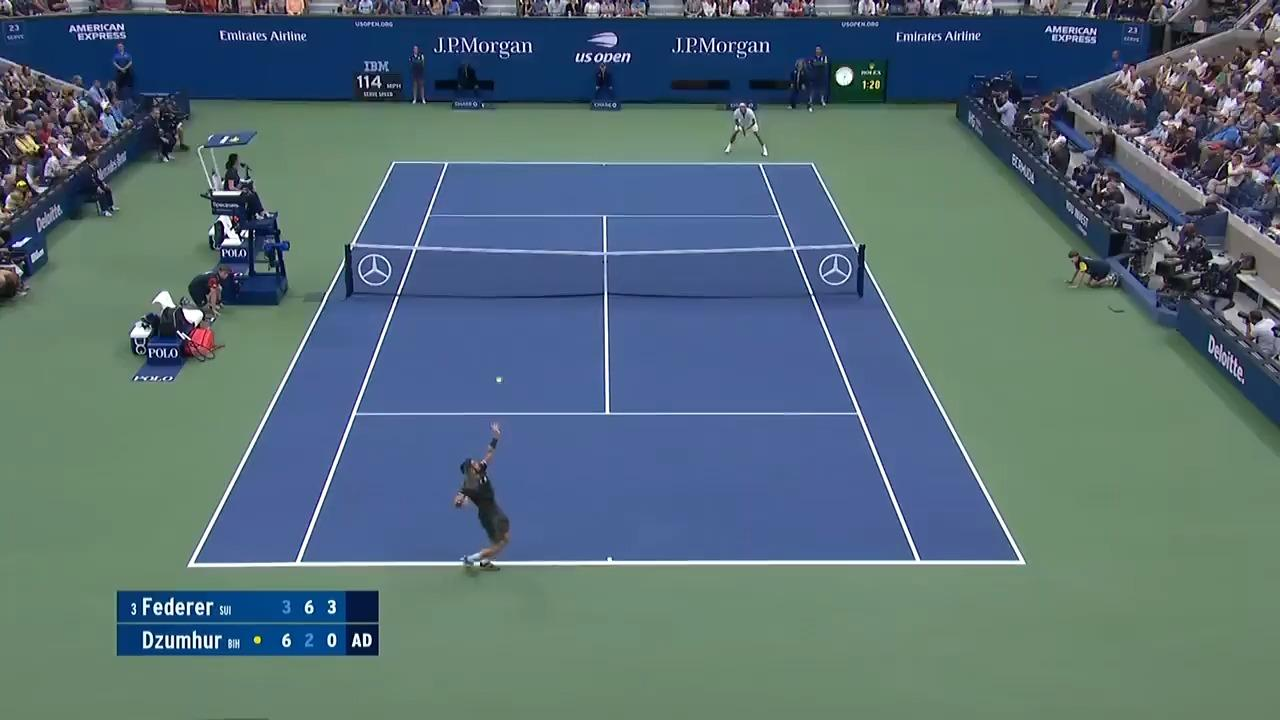tennis ball: (496, 377, 502, 383)
